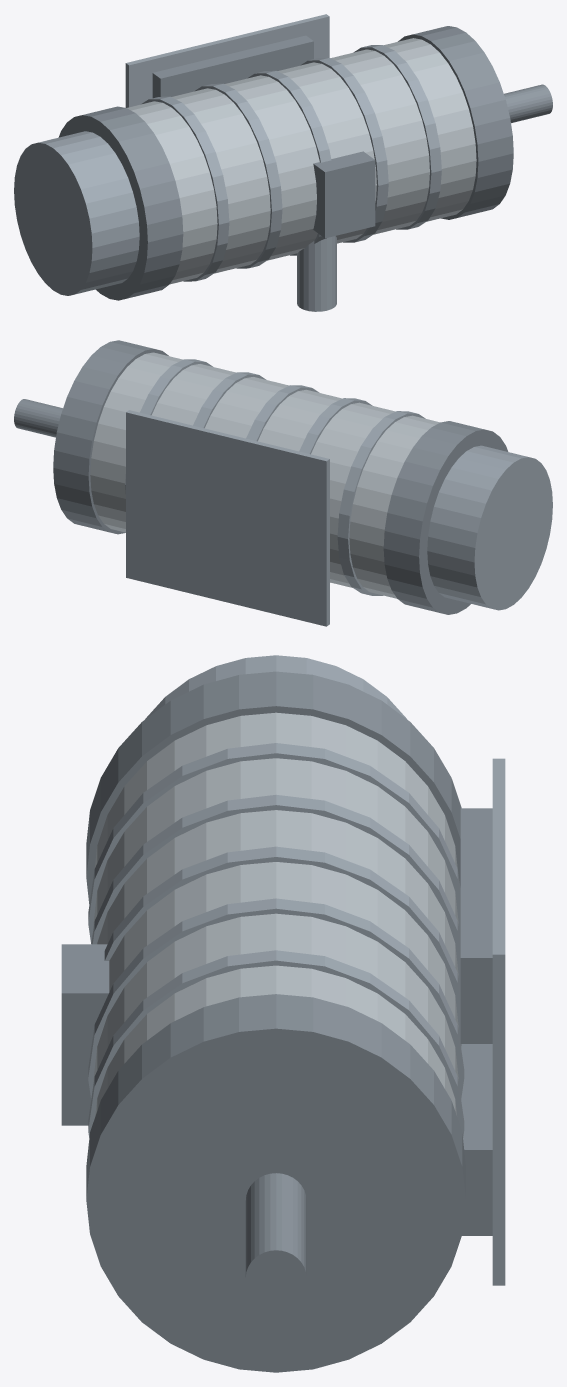
The model's file is monofasico_48.glb.
3 views of the same model, one above another, from view 1: azimuth 30°, elevation 25°; view 2: azimuth 150°, elevation 25°; view 3: azimuth 270°, elevation 25° (orthographic). The views are drawn at different scales.
Parts seen in each view (by area): view 1: monofasico_48; view 2: monofasico_48; view 3: monofasico_48.
Part boxes in pixels (bbox=[...]): monofasico_48: bbox=[14, 14, 552, 311]; monofasico_48: bbox=[14, 340, 552, 626]; monofasico_48: bbox=[61, 655, 505, 1372].
Size of the model in its own units: 1.87 by 0.75 by 0.729.
